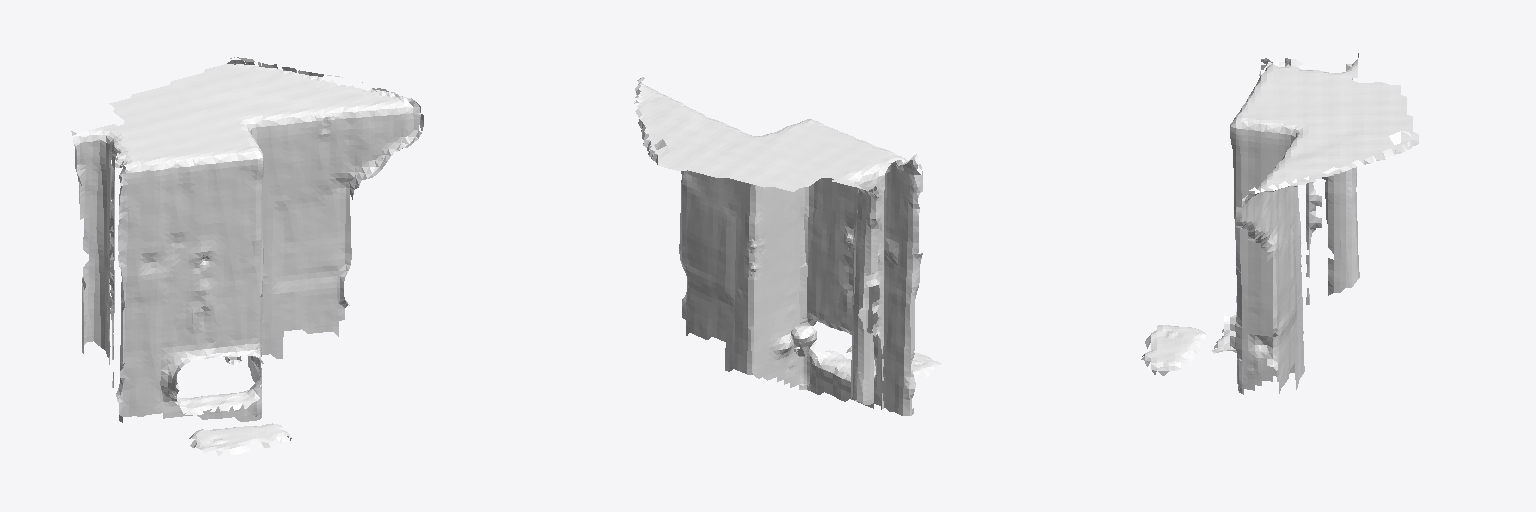
File: Hall3L.obj
The picture shows the model from 3 angles: view 1: azimuth 30°, elevation 25°; view 2: azimuth 150°, elevation 25°; view 3: azimuth 270°, elevation 25°; orthographic projection.
Bounding box in the file's own units: 3.49 × 3.29 × 2.88.